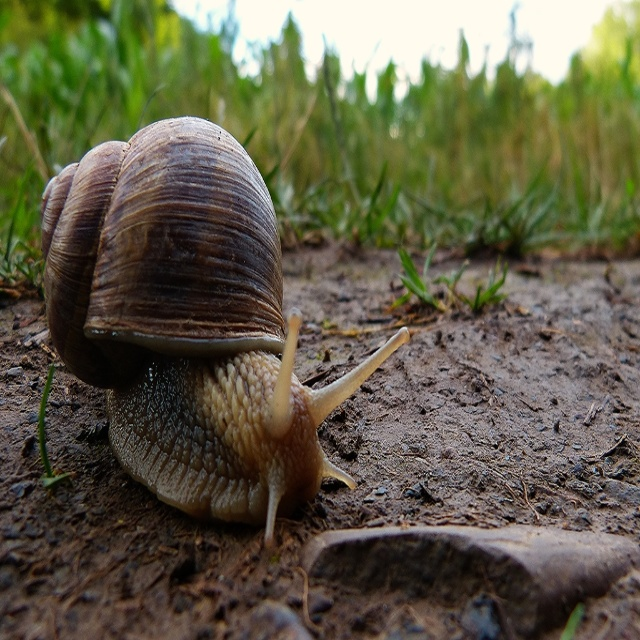Snail: (38, 109, 414, 550)
